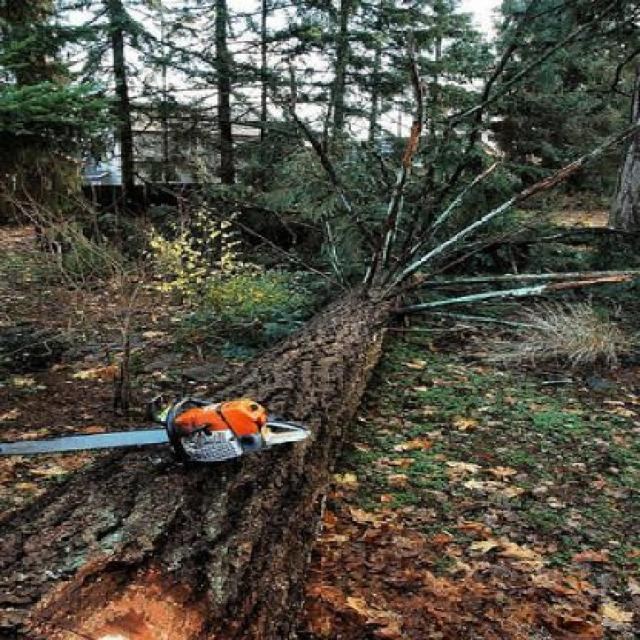Chainsaw: (0, 385, 318, 469)
